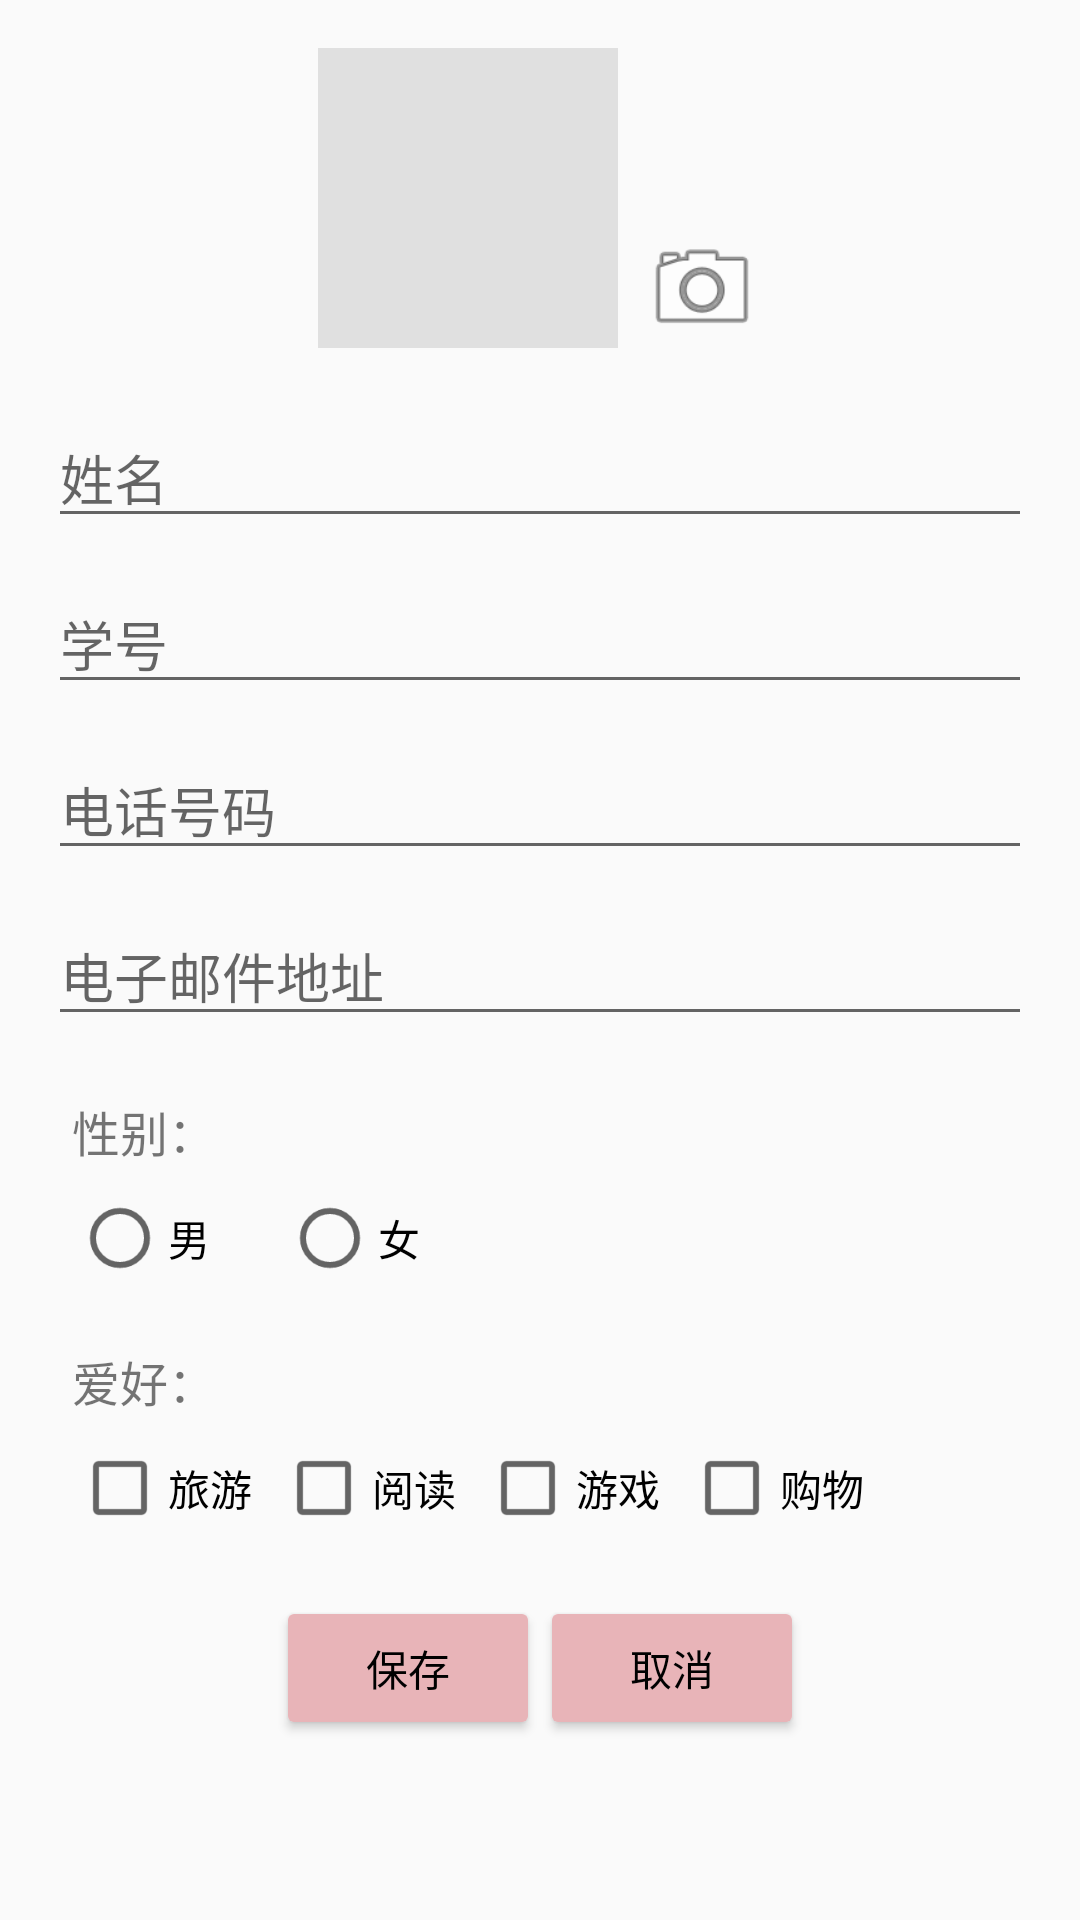

Screen size 1080px x 1920px. Icon name, then its center in pixels as (x,y):
camera: (702,286)
